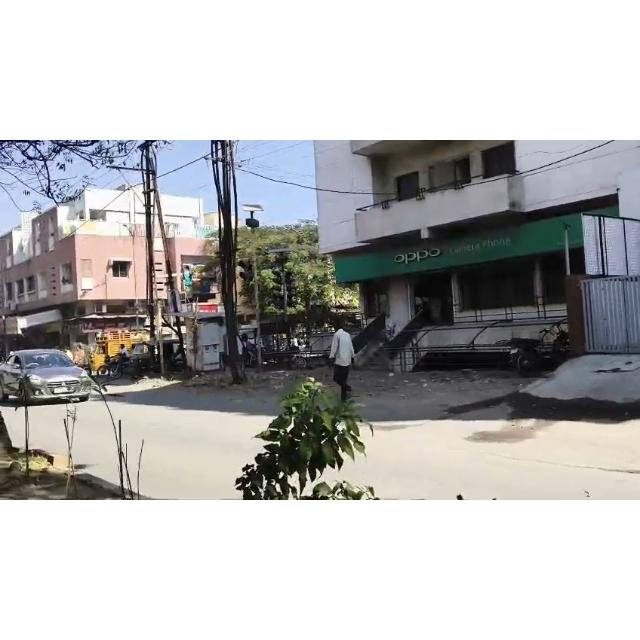auto: (122, 341, 186, 377)
car: (2, 348, 118, 420)
